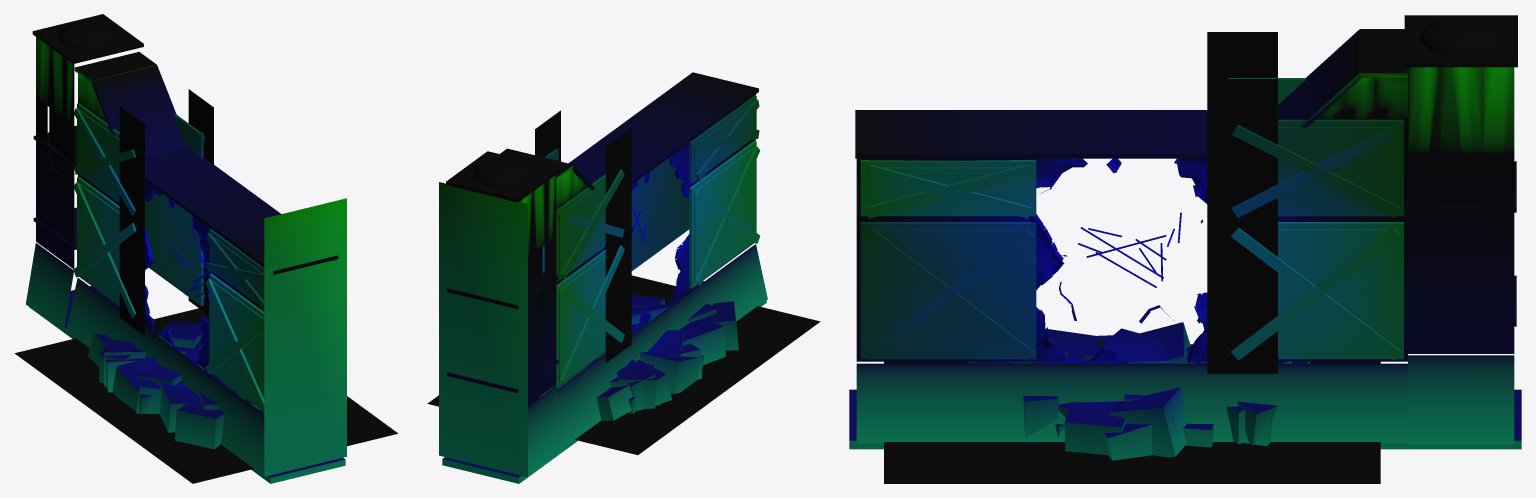
File: l_heavywall_damaged.glb
3 renders of one model, left to right at view 1: azimuth 30°, elevation 25°; view 2: azimuth 150°, elevation 25°; view 3: azimuth 270°, elevation 25°, orthographic. The views are drawn at different scales.
Parts seen in each view (by area): view 1: lod0; view 2: lod0; view 3: lod0.
Boxes of the visible parts, <box> form: lod0: <box>15,14,397,483</box>; lod0: <box>427,72,820,483</box>; lod0: <box>849,15,1521,483</box>.
Size of what is drawn, in the model's own units: 14 by 18.89 by 28.45.
